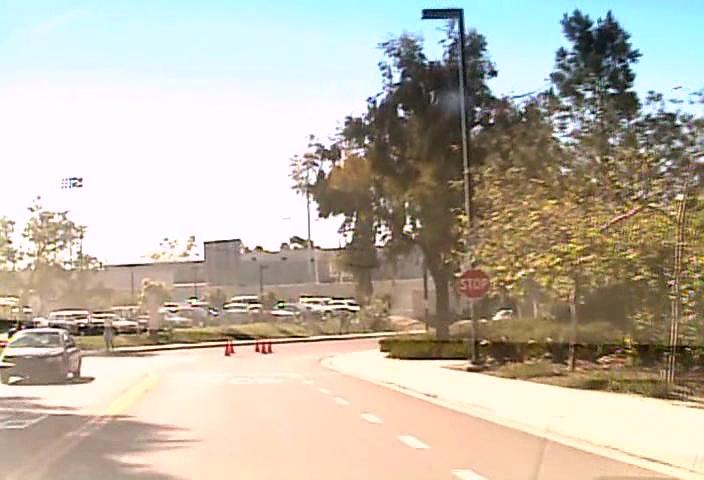stop: (457, 268, 491, 299)
